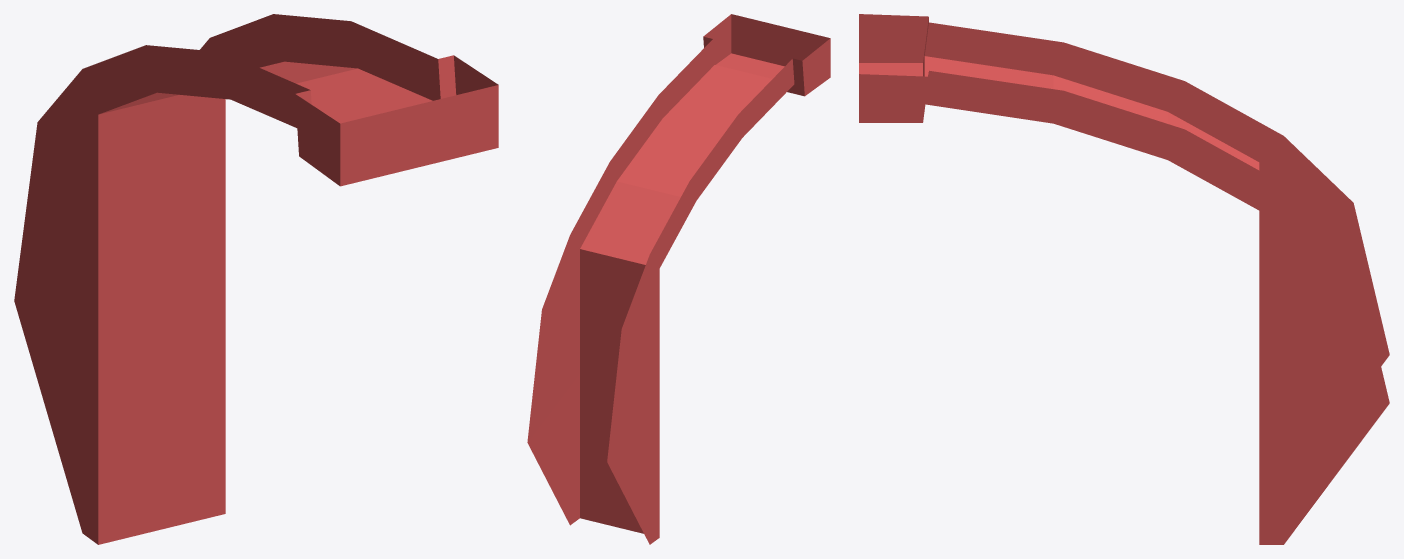
The model's file is mesh_supportbeam_COLLISION.fbx.
3 renders of one model, left to right at view 1: azimuth 30°, elevation 25°; view 2: azimuth 150°, elevation 25°; view 3: azimuth 270°, elevation 25°, orthographic. The views are drawn at different scales.
Parts seen in each view (by area): view 1: mesh_supportbeam_COLLISION; view 2: mesh_supportbeam_COLLISION; view 3: mesh_supportbeam_COLLISION.
Boxes of the visible parts, box(x1,y1,x2,y2) form: mesh_supportbeam_COLLISION: box(14, 14, 498, 544); mesh_supportbeam_COLLISION: box(527, 14, 830, 544); mesh_supportbeam_COLLISION: box(859, 14, 1389, 544).
Bounding box in the file's own units: 2.49 × 9.2 × 9.29.
